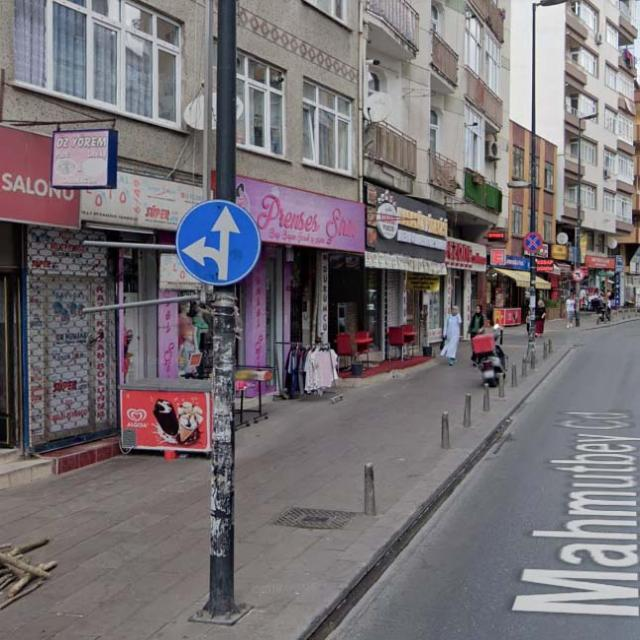ilerisol: (175, 199, 262, 287)
